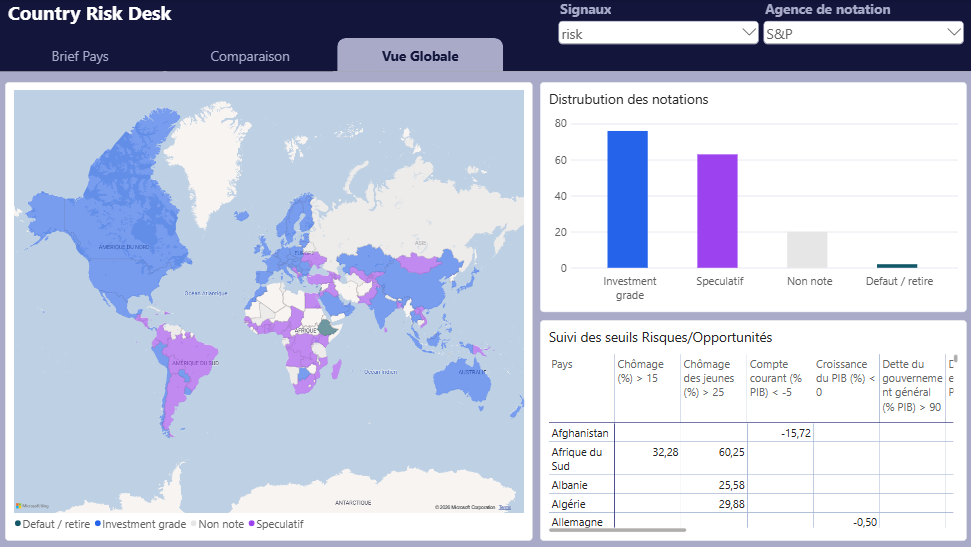

The dashboard page shown, as its layout file describes it:
{"tool":"powerbi","page":{"name":"Vue Globale","canvas":[1920,1080],"ordinal":2},"visuals":[{"type":"textbox","box":[0,0,1919.8,143.3],"z":0},{"type":"pageNavigator","box":[0,77.1,996.2,66.1],"z":1000},{"type":"slicer","fields":{"Values":["pbi_ratings_long.agency"]},"box":[1501,0,403.3,143.3],"z":2000},{"type":"filledMap","fields":{"Series":["pbi_ratings_long.category_fr"],"Category":["pbi_ratings_long.iso3"]},"box":[15.4,163.1,1035.9,901.5],"z":3000},{"type":"clusteredColumnChart","title":"Distrubution des notations","fields":{"Category":["pbi_ratings_long.category_fr"],"Y":["CountNonNull(pbi_ratings_long.iso3)"]},"box":[1066.8,163.1,837.6,451.8],"z":4000},{"type":"pivotTable","title":"Suivi des seuils Risques/Opportunités ","fields":{"Rows":["pbi_countries.country_fr"],"Columns":["pbi_signals.rule_fr"],"Values":["Sum(pbi_signals.value)"]},"box":[1066.8,630.4,837.6,434.2],"z":5000},{"type":"slicer","fields":{"Values":["pbi_signals.side"]},"box":[1097.6,0,403.3,143.3],"z":6000}]}

Visuals, with their boxes in screenshot pixels (x1, y1, x2, y2), scaled from the page's 1920x1080 canvas onto the 971x547 screenshot:
textbox: box(0, 0, 970, 73)
pageNavigator: box(0, 39, 504, 73)
slicer - pbi_ratings_long.agency: box(759, 0, 963, 73)
filledMap - pbi_ratings_long.category_fr x pbi_ratings_long.iso3: box(8, 83, 532, 539)
"Distrubution des notations" clusteredColumnChart: box(540, 83, 963, 311)
"Suivi des seuils Risques/Opportunités " pivotTable: box(540, 319, 963, 539)
slicer - pbi_signals.side: box(555, 0, 759, 73)
